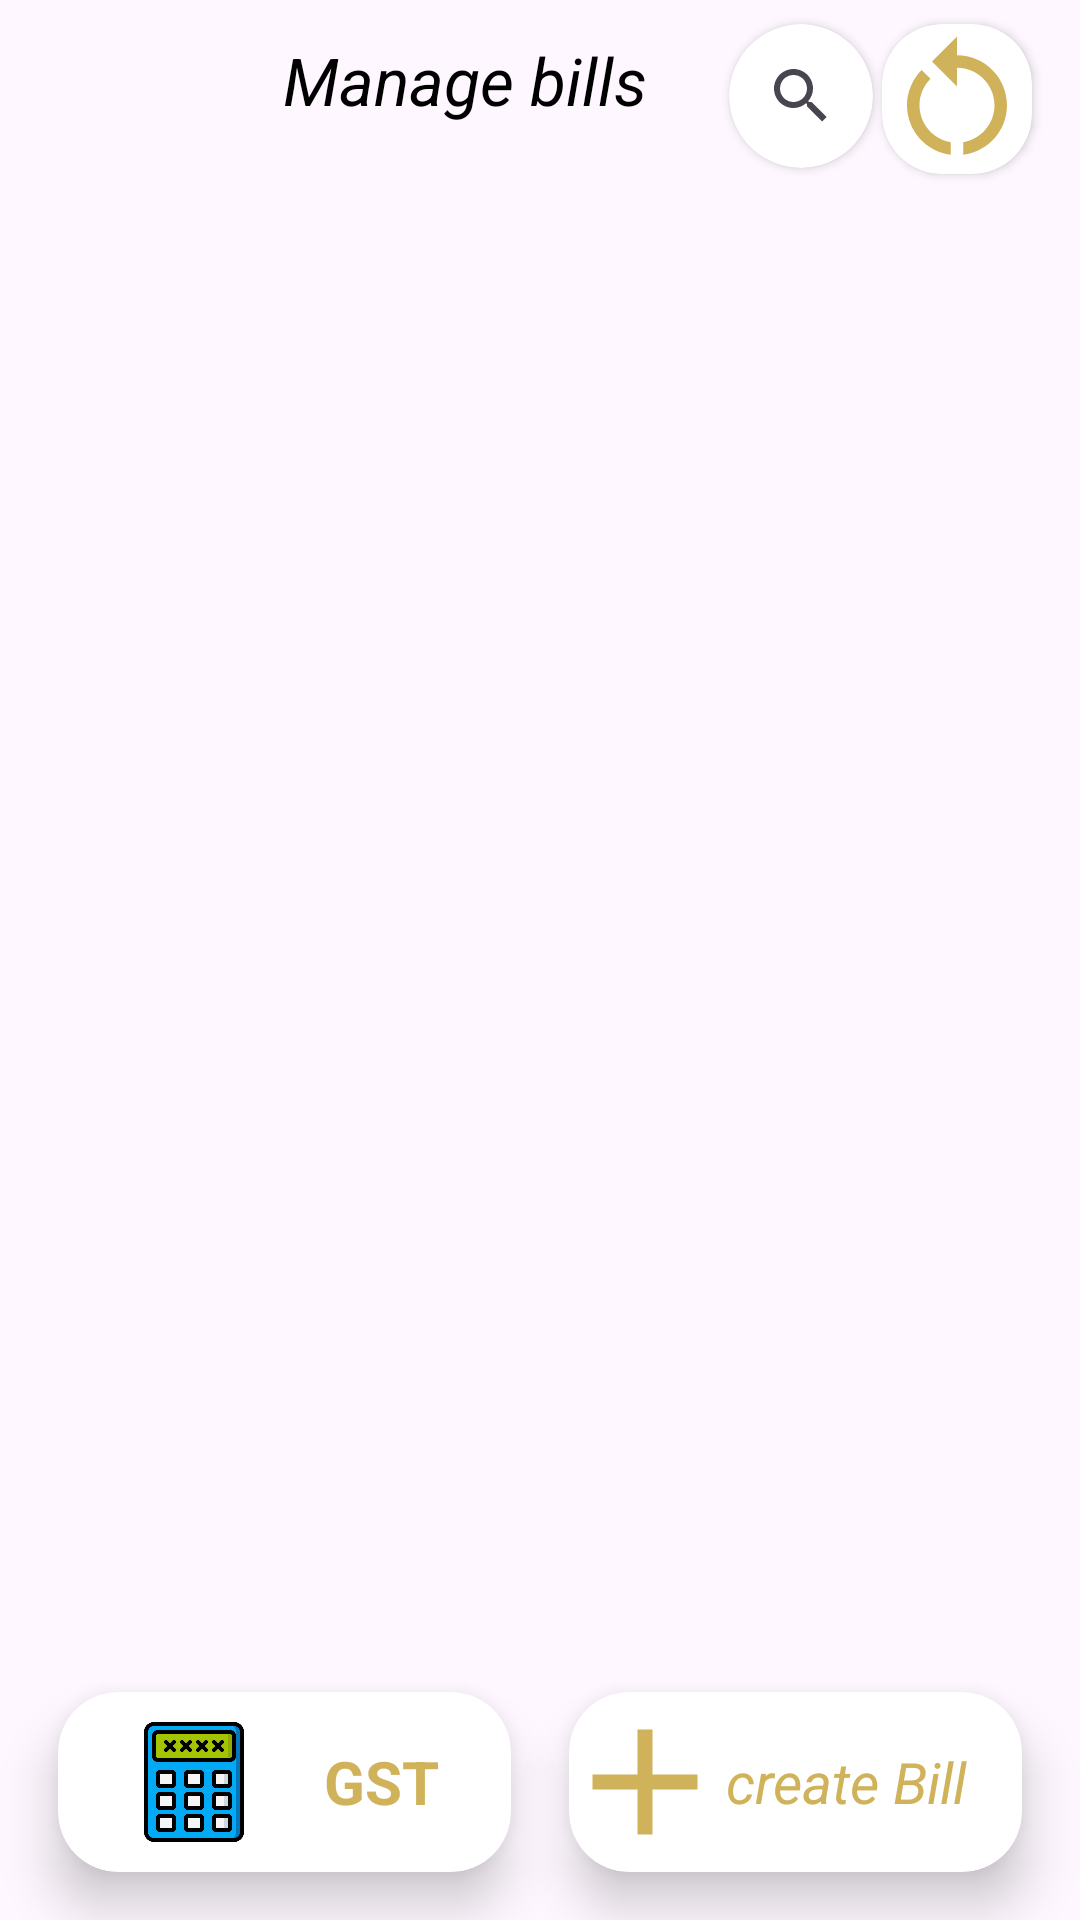

Icons on this 1080px×1920px Android screen, each with its box as (x1, y1, x2, y2):
add: (592, 1729, 698, 1835)
calculater: (144, 1722, 244, 1842)
restart: (882, 24, 1032, 174)
